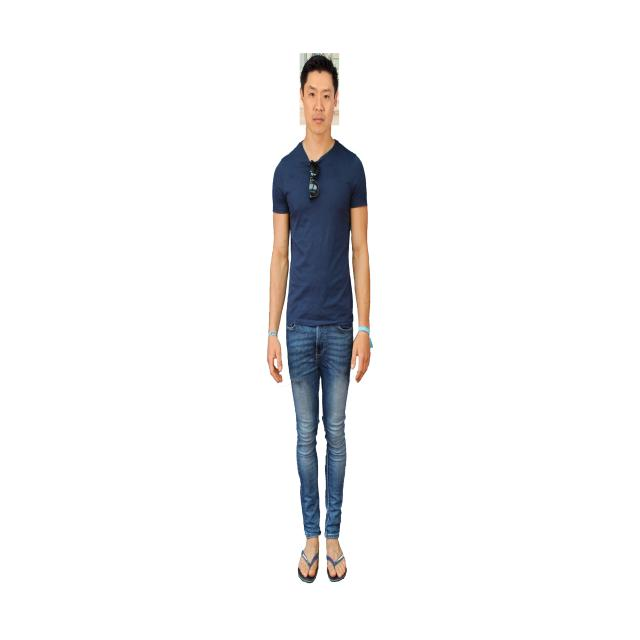jovem: (261, 52, 391, 598)
